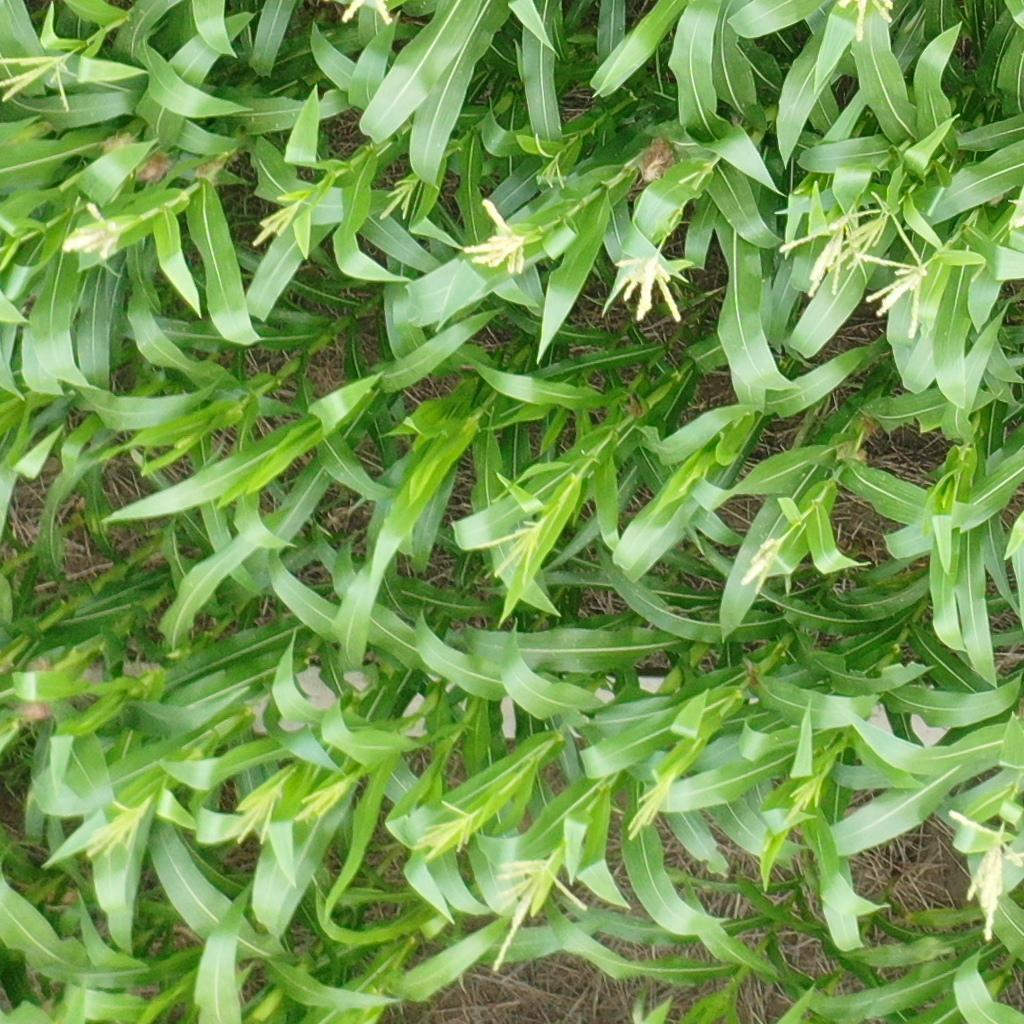Tassel: (487, 857, 588, 973), (946, 808, 1022, 943), (857, 214, 932, 337), (463, 514, 546, 584), (779, 216, 842, 298), (612, 254, 686, 321), (462, 197, 526, 273), (1, 50, 83, 109), (827, 195, 890, 270), (84, 793, 152, 861), (414, 800, 477, 865), (59, 199, 126, 259), (621, 768, 673, 841), (254, 189, 310, 251), (227, 787, 282, 848), (294, 777, 351, 824), (837, 1, 901, 42), (743, 539, 794, 588), (780, 777, 822, 826), (378, 179, 421, 222), (339, 1, 400, 26), (540, 155, 567, 192)
